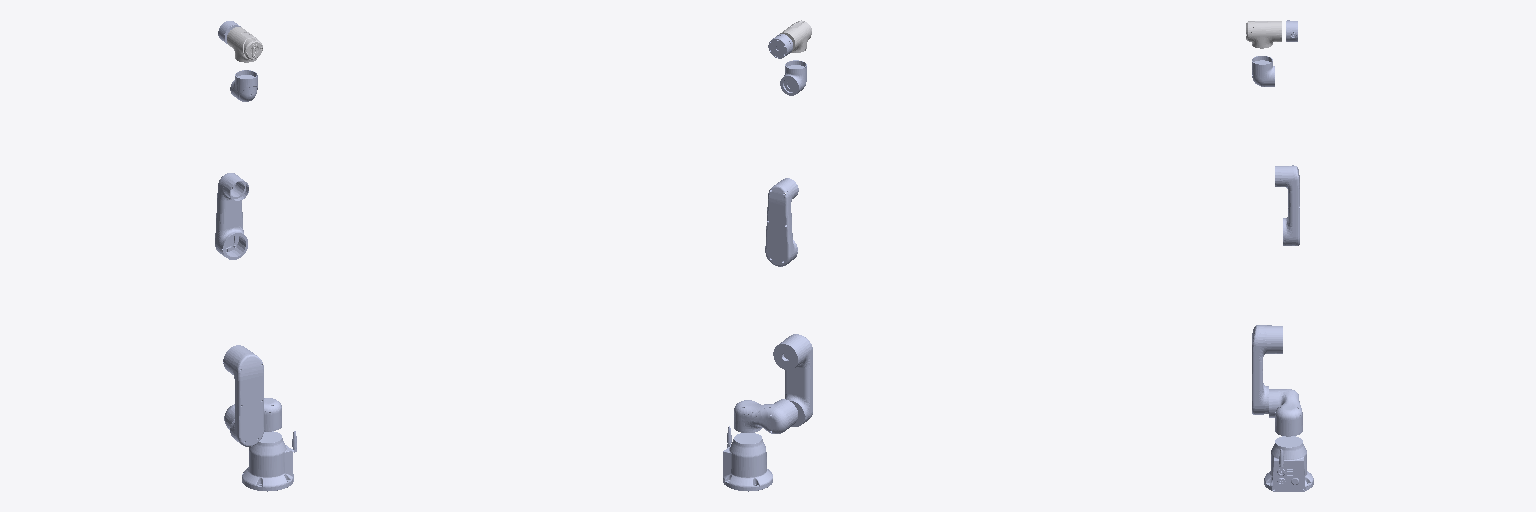
The robot description file, URDF, robot "rm_eco63_description":
<?xml version="1.0" encoding="utf-8"?>
<robot
  name="rm_eco63_description">
  <link
    name="base_link">
    <inertial>
      <origin
        xyz="0.00039308 -8.9311E-05 0.050351"
        rpy="0 0 0" />
      <mass
        value="0.70684" />
      <inertia
        ixx="0.001114"
        ixy="3.3208E-06"
        ixz="-2.5536E-05"
        iyy="0.0011138"
        iyz="1.4832E-06"
        izz="0.00075793" />
    </inertial>
    <visual>
      <origin
        xyz="0 0 0"
        rpy="0 0 0" />
      <geometry>
        <mesh
          filename="package://rm_description/meshes/rm_eco63_arm/base_link.STL" />
      </geometry>
      <material
        name="">
        <color
          rgba="0.79216 0.81961 0.93333 1" />
      </material>
    </visual>
    <collision>
      <origin
        xyz="0 0 0"
        rpy="0 0 0" />
      <geometry>
        <mesh
          filename="package://rm_description/meshes/rm_eco63_arm/base_link.STL" />
      </geometry>
    </collision>
  </link>
  <link
    name="Link1">
    <inertial>
      <origin
        xyz="-0.032161 -0.002588 -0.0071715"
        rpy="0 0 0" />
      <mass
        value="0.7339" />
      <inertia
        ixx="0.00065754"
        ixy="-0.00012029"
        ixz="0.00016575"
        iyy="0.0018838"
        iyz="1.5479E-05"
        izz="0.0017351" />
    </inertial>
    <visual>
      <origin
        xyz="0 0 0"
        rpy="0 0 0" />
      <geometry>
        <mesh
          filename="package://rm_description/meshes/rm_eco63_arm/Link1.STL" />
      </geometry>
      <material
        name="">
        <color
          rgba="0.79216 0.81961 0.93333 1" />
      </material>
    </visual>
    <collision>
      <origin
        xyz="0 0 0"
        rpy="0 0 0" />
      <geometry>
        <mesh
          filename="package://rm_description/meshes/rm_eco63_arm/Link1.STL" />
      </geometry>
    </collision>
  </link>
  <joint
    name="joint1"
    type="revolute">
    <origin
      xyz="0 0 0.1625"
      rpy="0 0 0" />
    <parent
      link="base_link" />
    <child
      link="Link1" />
    <axis
      xyz="0 0 1" />
    <limit
      lower="-3.1"
      upper="3.1"
      effort="0"
      velocity="0" />
  </joint>
  <link
    name="Link2">
    <inertial>
      <origin
        xyz="0.19469 6.6139E-07 -0.070874"
        rpy="0 0 0" />
      <mass
        value="1.9492" />
      <inertia
        ixx="0.001497"
        ixy="1.4887E-07"
        ixz="-0.00045122"
        iyy="0.040644"
        iyz="1.3757E-08"
        izz="0.040997" />
    </inertial>
    <visual>
      <origin
        xyz="0 0 0"
        rpy="0 0 0" />
      <geometry>
        <mesh
          filename="package://rm_description/meshes/rm_eco63_arm/Link2.STL" />
      </geometry>
      <material
        name="">
        <color
          rgba="0.79216 0.81961 0.93333 1" />
      </material>
    </visual>
    <collision>
      <origin
        xyz="0 0 0"
        rpy="0 0 0" />
      <geometry>
        <mesh
          filename="package://rm_description/meshes/rm_eco63_arm/Link2.STL" />
      </geometry>
    </collision>
  </link>
  <joint
    name="joint2"
    type="revolute">
    <origin
      xyz="-0.086 0 0"
      rpy="-1.5708 -1.5708 0" />
    <parent
      link="Link1" />
    <child
      link="Link2" />
    <axis
      xyz="0 0 1" />
    <limit
      lower="-3.1"
      upper="3.1"
      effort="0"
      velocity="0" />
  </joint>
  <link
    name="Link3">
    <inertial>
      <origin
        xyz="0.1718 6.3595E-07 0.026691"
        rpy="0 0 0" />
      <mass
        value="1.4553" />
      <inertia
        ixx="0.00094612"
        ixy="-1.1572E-07"
        ixz="-0.0008623"
        iyy="0.025574"
        iyz="-2.426E-08"
        izz="0.025646" />
    </inertial>
    <visual>
      <origin
        xyz="0 0 0"
        rpy="0 0 0" />
      <geometry>
        <mesh
          filename="package://rm_description/meshes/rm_eco63_arm/Link3.STL" />
      </geometry>
      <material
        name="">
        <color
          rgba="0.79216 0.81961 0.93333 1" />
      </material>
    </visual>
    <collision>
      <origin
        xyz="0 0 0"
        rpy="0 0 0" />
      <geometry>
        <mesh
          filename="package://rm_description/meshes/rm_eco63_arm/Link3.STL" />
      </geometry>
    </collision>
  </link>
  <joint
    name="joint3"
    type="revolute">
    <origin
      xyz="0.41 0 0"
      rpy="0 0 0" />
    <parent
      link="Link2" />
    <child
      link="Link3" />
    <axis
      xyz="0 0 1" />
    <limit
      lower="-2.95"
      upper="2.76"
      effort="0"
      velocity="0" />
  </joint>
  <link
    name="Link4">
    <inertial>
      <origin
        xyz="6.6185E-07 -0.0098798 0.013446"
        rpy="0 0 0" />
      <mass
        value="0.27261" />
      <inertia
        ixx="0.00023835"
        ixy="2.6006E-09"
        ixz="-2.5717E-09"
        iyy="0.00019072"
        iyz="-4.0013E-05"
        izz="0.0001713" />
    </inertial>
    <visual>
      <origin
        xyz="0 0 0"
        rpy="0 0 0" />
      <geometry>
        <mesh
          filename="package://rm_description/meshes/rm_eco63_arm/Link4.STL" />
      </geometry>
      <material
        name="">
        <color
          rgba="0.79216 0.81961 0.93333 1" />
      </material>
    </visual>
    <collision>
      <origin
        xyz="0 0 0"
        rpy="0 0 0" />
      <geometry>
        <mesh
          filename="package://rm_description/meshes/rm_eco63_arm/Link4.STL" />
      </geometry>
    </collision>
  </link>
  <joint
    name="joint4"
    type="revolute">
    <origin
      xyz="0.38 0 -0.0589"
      rpy="0 0 1.5708" />
    <parent
      link="Link3" />
    <child
      link="Link4" />
    <axis
      xyz="0 0 1" />
    <limit
      lower="-2.44"
      upper="2.44"
      effort="0"
      velocity="0" />
  </joint>
  <link
    name="Link5">
    <inertial>
      <origin
        xyz="-3.0395E-07 7.9935E-05 -0.014767"
        rpy="0 0 0" />
      <mass
        value="0.31149" />
      <inertia
        ixx="0.00030885"
        ixy="-5.8024E-09"
        ixz="3.5085E-09"
        iyy="0.00024407"
        iyz="-2.2834E-06"
        izz="0.0002027" />
    </inertial>
    <visual>
      <origin
        xyz="0 0 0"
        rpy="0 0 0" />
      <geometry>
        <mesh
          filename="package://rm_description/meshes/rm_eco63_arm/Link5.STL" />
      </geometry>
      <material
        name="">
        <color
          rgba="0.86667 0.86667 0.8902 1" />
      </material>
    </visual>
    <collision>
      <origin
        xyz="0 0 0"
        rpy="0 0 0" />
      <geometry>
        <mesh
          filename="package://rm_description/meshes/rm_eco63_arm/Link5.STL" />
      </geometry>
    </collision>
  </link>
  <joint
    name="joint5"
    type="revolute">
    <origin
      xyz="0 -0.11 0"
      rpy="1.5708 0 0" />
    <parent
      link="Link4" />
    <child
      link="Link5" />
    <axis
      xyz="0 0 1" />
    <limit
      lower="-3.14"
      upper="3.14"
      effort="0"
      velocity="0" />
  </joint>
  <link
    name="Link6">
    <inertial>
      <origin
        xyz="0.00065547 -0.00036962 -0.015297"
        rpy="0 0 0" />
      <mass
        value="0.080797" />
      <inertia
        ixx="2.4449E-05"
        ixy="-1.2142E-06"
        ixz="-1.0223E-07"
        iyy="2.3012E-05"
        iyz="6.5765E-08"
        izz="3.661E-05" />
    </inertial>
    <visual>
      <origin
        xyz="0 0 0"
        rpy="0 0 0" />
      <geometry>
        <mesh
          filename="package://rm_description/meshes/rm_eco63_arm/Link6.STL" />
      </geometry>
      <material
        name="">
        <color
          rgba="0.79216 0.81961 0.93333 1" />
      </material>
    </visual>
    <collision>
      <origin
        xyz="0 0 0"
        rpy="0 0 0" />
      <geometry>
        <mesh
          filename="package://rm_description/meshes/rm_eco63_arm/Link6.STL" />
      </geometry>
    </collision>
  </link>
  <joint
    name="joint6"
    type="revolute">
    <origin
      xyz="0 0.079501 0"
      rpy="-1.5708 0 0" />
    <parent
      link="Link5" />
    <child
      link="Link6" />
    <axis
      xyz="0 0 1" />
    <limit
      lower="-6.28"
      upper="6.28"
      effort="0"
      velocity="0" />
  </joint>
</robot>

--- What the picture shows (computed from the rendered views, not written in the file) ---
The picture shows the robot from 3 angles, left to right: view 1: azimuth 30°, elevation 25°; view 2: azimuth 150°, elevation 25°; view 3: azimuth 270°, elevation 25°; orthographic projection.
Robot: rm_eco63_description — 7 links, 6 joints (6 revolute); root link base_link; default pose: all joints at 0.
Links seen in each view (by area): view 1: Link2, base_link, Link3, Link5, Link1, Link4; view 2: base_link, Link2, Link3, Link1, Link4, Link5; view 3: base_link, Link2, Link1, Link3, Link5, Link4.
Link boxes in pixels (x1,y1,x2,y2): Link2: (223, 345, 263, 446); base_link: (242, 431, 296, 491); Link3: (215, 173, 248, 259); Link5: (227, 27, 262, 62); Link1: (224, 398, 281, 431); Link4: (230, 70, 257, 101); base_link: (723, 426, 772, 491); Link2: (773, 334, 812, 426); Link3: (765, 178, 798, 266); Link1: (734, 399, 797, 433); Link4: (780, 60, 806, 95); Link5: (780, 20, 811, 52); base_link: (1264, 436, 1313, 491); Link2: (1252, 325, 1282, 414); Link1: (1269, 389, 1302, 436); Link3: (1275, 165, 1299, 245); Link5: (1246, 21, 1281, 48); Link4: (1252, 56, 1274, 86).
Bounding box of the posed robot: 0.1793 × 0.1496 × 1.09 m (x, y, z).
7 mesh visuals loaded from 7 distinct referenced files (7 binary STL).